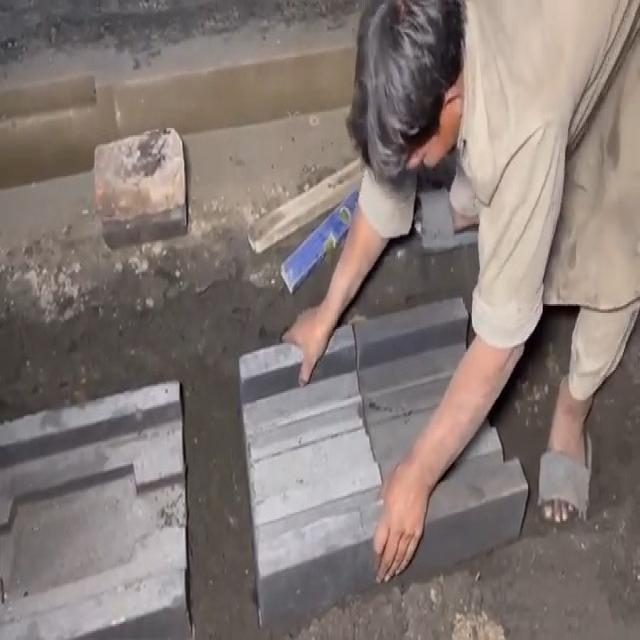dress: (358, 2, 640, 401)
